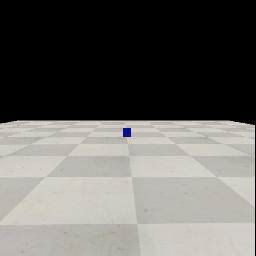box: (123, 128, 131, 137)
